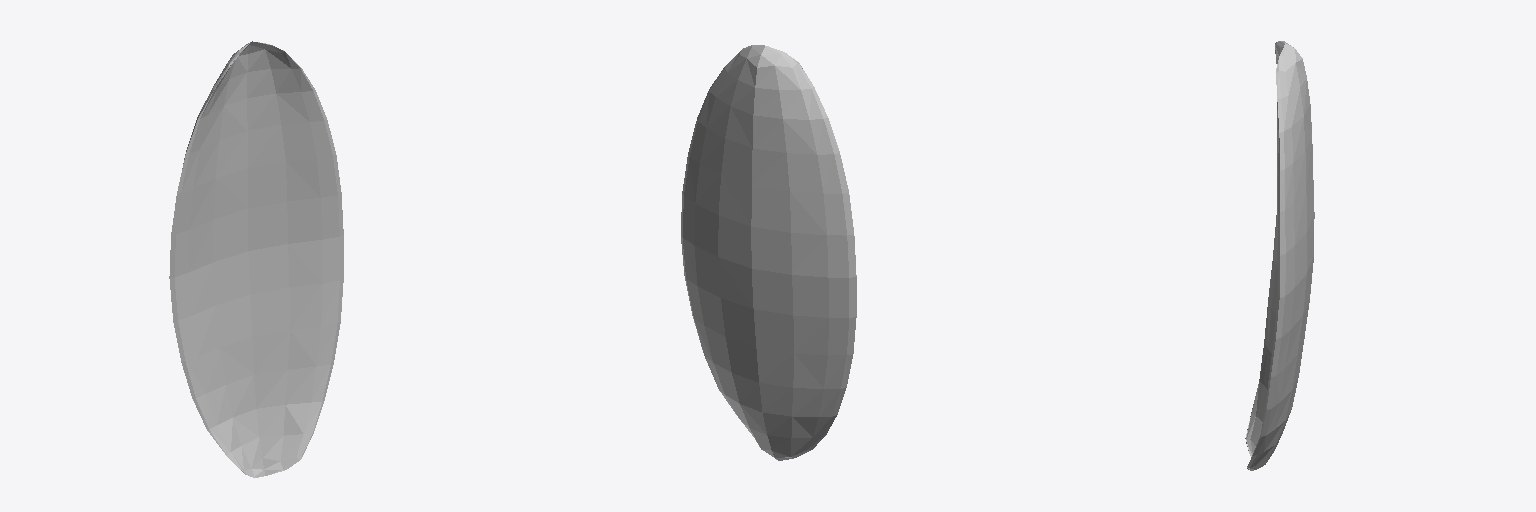
The model's file is shield.obj.
3 renders of one model, left to right at view 1: azimuth 30°, elevation 25°; view 2: azimuth 150°, elevation 25°; view 3: azimuth 270°, elevation 25°, orthographic.
Parts seen in each view (by area): view 1: pSphere1; view 2: pSphere1; view 3: pSphere1.
Part boxes in pixels (left/top/right/bottom): pSphere1: left=169, top=41, right=343, bottom=477; pSphere1: left=681, top=45, right=856, bottom=460; pSphere1: left=1245, top=41, right=1314, bottom=470.
Bounding box in the file's own units: 0.4283 × 0.9937 × 0.1463.